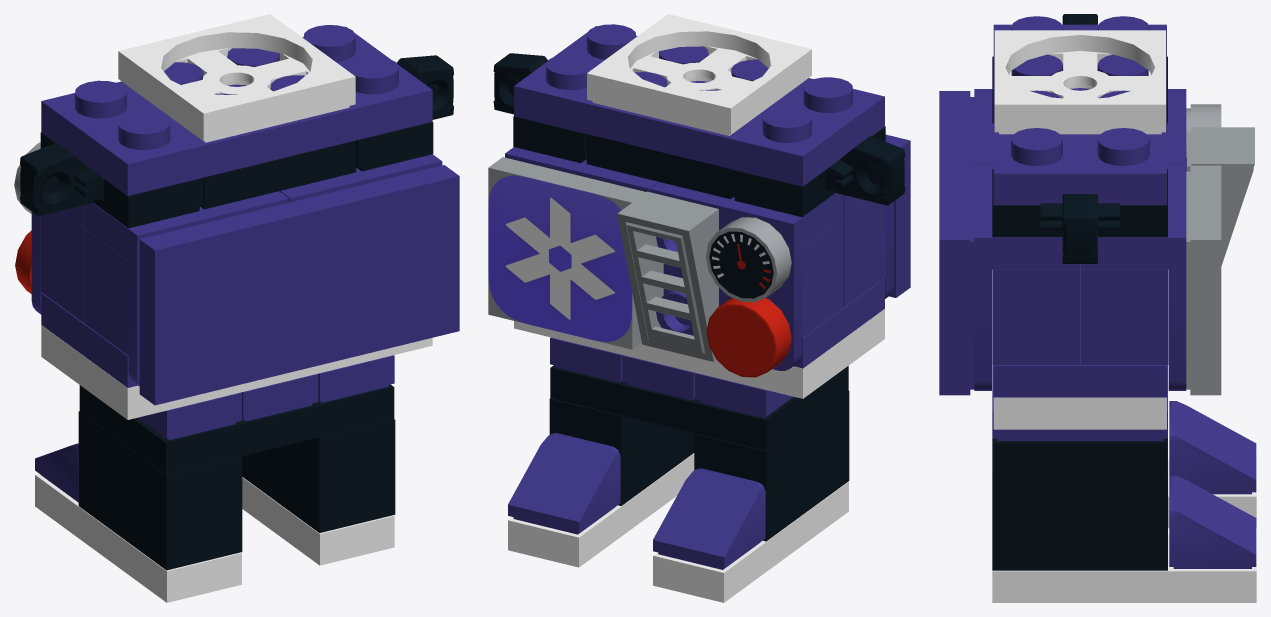
Rendered from torso.dae.
3 views of the same model, side by side, from view 1: azimuth 30°, elevation 25°; view 2: azimuth 150°, elevation 25°; view 3: azimuth 270°, elevation 25° (orthographic). The views are drawn at different scales.
Visible parts, largest first — view 1: 87079_dot_dat.001, 3020_dot_dat.005, 3680_dot_dat.001, 3004_dot_dat.002, 3004_dot_dat.003, 3021_dot_dat.001, 44567_dot_dat.002, 3623_dot_dat.003, 3020_dot_dat.002, 44728_dot_dat.006, 3623_dot_dat.002, 3022_dot_dat.001 (+11 smaller); view 2: 3020_dot_dat.005, 3068b_dot_dat.001, 3680_dot_dat.001, 61409_dot_dat.001, 3004_dot_dat.002, 3021_dot_dat.001, 54200_dot_dat.002, 54200_dot_dat.003, 44728_dot_dat.005, 44567_dot_dat.002, 3004_dot_dat.003, 3623_dot_dat.003 (+15 smaller); view 3: 3004_dot_dat.003, 3020_dot_dat.005, 3680_dot_dat.001, 87079_dot_dat.001, 3623_dot_dat.002, 3010_dot_dat.003, 3010_dot_dat.002, 3068b_dot_dat.001, 44567_dot_dat.003, 44728_dot_dat.004, 44728_dot_dat.007, 54200_dot_dat.003 (+11 smaller).
Part boxes in pixels (x1,y1,x2,y2): 87079_dot_dat.001: [139, 165, 459, 405]; 3020_dot_dat.005: [41, 25, 432, 195]; 3680_dot_dat.001: [118, 14, 355, 142]; 3004_dot_dat.002: [78, 411, 242, 570]; 3004_dot_dat.003: [241, 419, 395, 532]; 3021_dot_dat.001: [79, 384, 394, 474]; 44567_dot_dat.002: [20, 132, 203, 228]; 3623_dot_dat.003: [35, 474, 241, 602]; 3020_dot_dat.002: [41, 325, 432, 419]; 44728_dot_dat.006: [84, 191, 289, 386]; 3623_dot_dat.002: [242, 477, 394, 565]; 3022_dot_dat.001: [201, 140, 356, 209]; 3020_dot_dat.005: [514, 24, 884, 186]; 3068b_dot_dat.001: [488, 157, 646, 349]; 3680_dot_dat.001: [587, 14, 811, 135]; 61409_dot_dat.001: [617, 191, 718, 361]; 3004_dot_dat.002: [694, 391, 849, 541]; 3021_dot_dat.001: [550, 365, 848, 450]; 54200_dot_dat.002: [653, 468, 765, 569]; 54200_dot_dat.003: [508, 433, 620, 534]; 44728_dot_dat.005: [650, 182, 843, 370]; 44567_dot_dat.002: [731, 126, 905, 217]; 3004_dot_dat.003: [549, 398, 694, 505]; 3623_dot_dat.003: [653, 481, 848, 602]; 3004_dot_dat.003: [992, 438, 1167, 570]; 3020_dot_dat.005: [993, 16, 1166, 205]; 3680_dot_dat.001: [994, 30, 1165, 134]; 87079_dot_dat.001: [939, 91, 974, 395]; 3623_dot_dat.002: [992, 534, 1256, 602]; 3010_dot_dat.003: [1080, 269, 1168, 364]; 3010_dot_dat.002: [992, 269, 1079, 364]; 3068b_dot_dat.001: [1186, 165, 1221, 395]; 44567_dot_dat.003: [992, 169, 1167, 263]; 44728_dot_dat.004: [1080, 163, 1186, 390]; 44728_dot_dat.007: [974, 163, 1079, 390]; 54200_dot_dat.003: [1169, 475, 1256, 568].
Bounding box in the file's own units: 4.39 × 2.87 × 4.79.
Materials: 7 (1 with a texture image).
